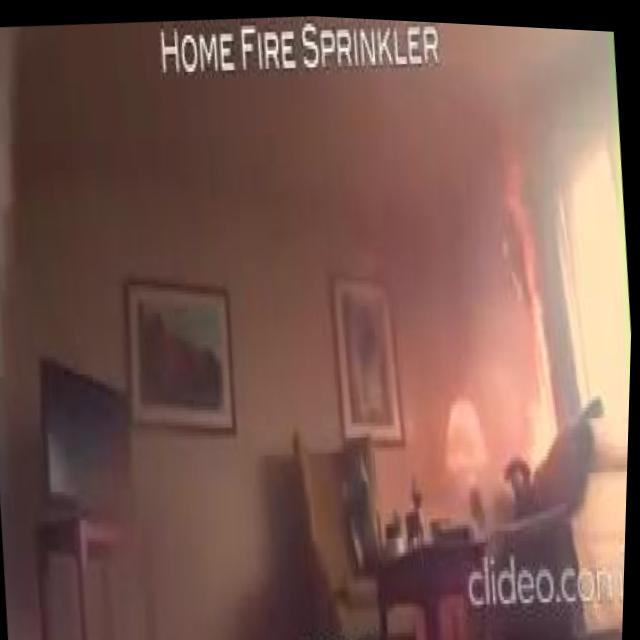fire: (487, 160, 567, 461)
